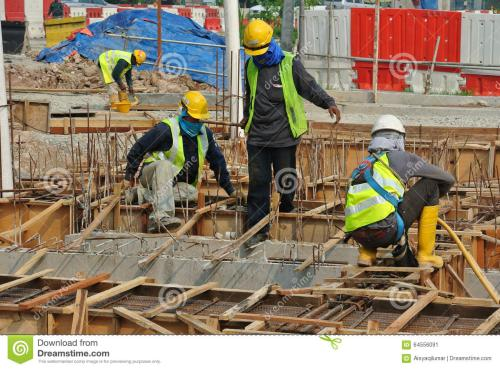boots: (416, 206, 445, 268), (147, 216, 181, 232), (357, 245, 377, 267), (111, 91, 136, 108)
hard-hat: (242, 18, 273, 55), (181, 91, 210, 120), (371, 113, 406, 135), (133, 49, 146, 65)
mask: (179, 115, 204, 137)
person: (239, 19, 340, 244), (342, 113, 456, 268), (123, 89, 244, 232), (97, 48, 146, 107)
vest: (124, 113, 226, 197), (238, 56, 316, 146), (342, 147, 421, 225), (99, 50, 129, 84)
